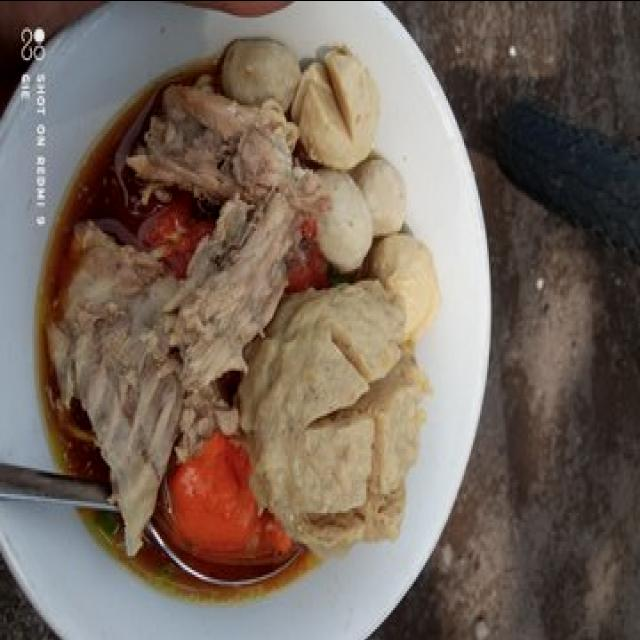bakso: (68, 36, 446, 593)
